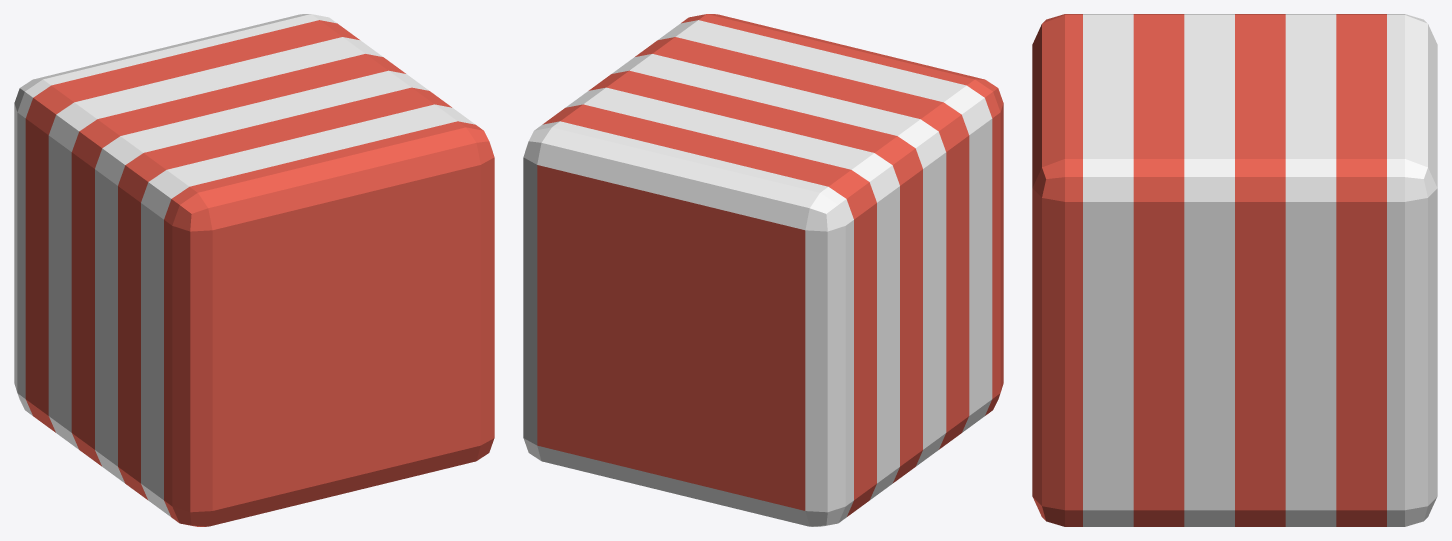
Rendered from hurdle.fbx.
The picture shows the model from 3 angles, left to right: view 1: azimuth 30°, elevation 25°; view 2: azimuth 150°, elevation 25°; view 3: azimuth 270°, elevation 25°; orthographic projection. The views are drawn at different scales.
Parts seen in each view (by area): view 1: hurdle; view 2: hurdle; view 3: hurdle.
Boxes of the visible parts, bbox=[...] form: hurdle: bbox=[14, 14, 494, 526]; hurdle: bbox=[523, 14, 1003, 526]; hurdle: bbox=[1032, 14, 1437, 526].
Size of the model in its own units: 1 by 1 by 1.
